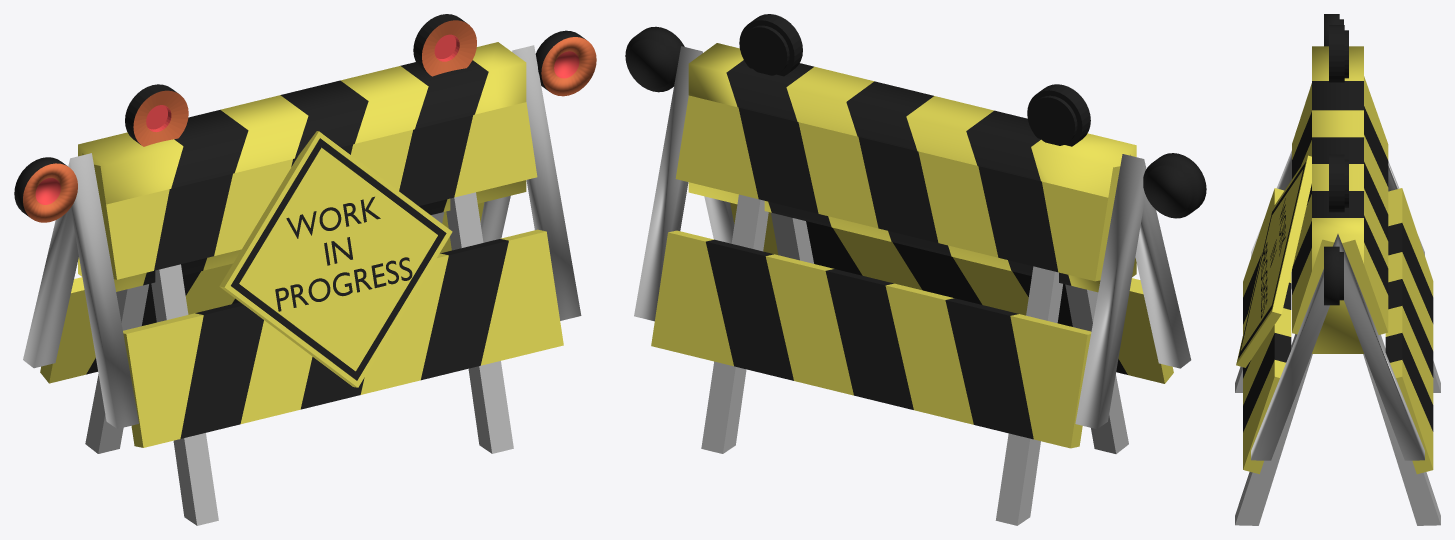
Rendered from SignBoardConstruction.fbx.
3 views of the same model, side by side, from view 1: azimuth 30°, elevation 25°; view 2: azimuth 150°, elevation 25°; view 3: azimuth 270°, elevation 25° (orthographic). The views are drawn at different scales.
Visible parts, largest first — view 1: Construction_Double, Construction_Original, Sign, Text; view 2: Construction_Double, Construction_Original; view 3: Construction_Double, Construction_Original, Sign, Text.
Boxes of the visible parts, bbox=[...] form: Construction_Double: bbox=[40, 14, 563, 525]; Construction_Original: bbox=[14, 30, 596, 428]; Sign: bbox=[219, 131, 452, 387]; Text: bbox=[275, 196, 412, 311]; Construction_Double: bbox=[651, 14, 1173, 525]; Construction_Original: bbox=[625, 26, 1206, 429]; Construction_Double: bbox=[1235, 25, 1440, 525]; Construction_Original: bbox=[1251, 14, 1424, 460]; Sign: bbox=[1236, 155, 1311, 367]; Text: bbox=[1261, 198, 1285, 318].
Bounding box in the file's own units: 137 × 89.65 × 46.13.
